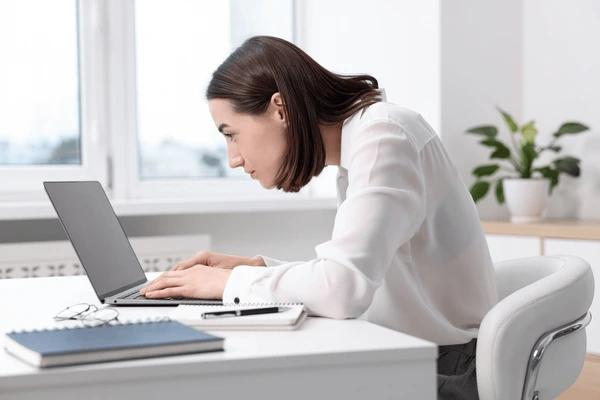Bad Sitting Posture: (94, 0, 556, 376)
